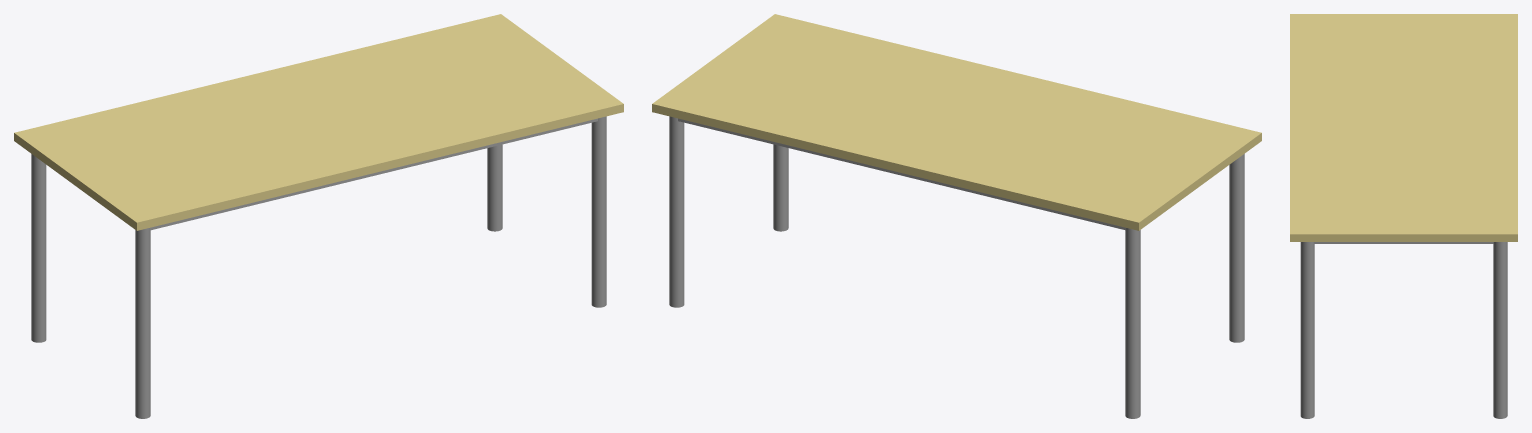
Rendered from TafelAulaRechthoek.fbx.
The picture shows the model from 3 angles, left to right: view 1: azimuth 30°, elevation 25°; view 2: azimuth 150°, elevation 25°; view 3: azimuth 270°, elevation 25°; orthographic projection. The views are drawn at different scales.
Parts seen in each view (by area): view 1: pCube1, pCylinder2, pCylinder1, pCylinder4, pCube3, pCylinder3; view 2: pCube1, pCylinder4, pCylinder3, pCylinder2, pCube2, pCylinder1; view 3: pCube1, pCylinder1, pCylinder3, pCube5.
Part boxes in pixels (x1,y1,x2,y2): pCube1: (14, 14, 623, 230); pCylinder2: (135, 228, 150, 418); pCylinder1: (591, 116, 606, 307); pCylinder4: (31, 154, 46, 342); pCube3: (150, 118, 597, 230); pCylinder3: (487, 144, 502, 231); pCube1: (652, 14, 1261, 230); pCylinder4: (1125, 228, 1140, 418); pCylinder3: (669, 116, 684, 307); pCylinder2: (1229, 154, 1244, 342); pCube2: (680, 119, 1125, 230); pCylinder1: (773, 144, 788, 231); pCube1: (1290, 14, 1517, 241); pCylinder1: (1300, 242, 1314, 418); pCylinder3: (1493, 242, 1507, 418); pCube5: (1314, 242, 1493, 243).
Bounding box in the file's own units: 5.18 × 2.07 × 2.26.
